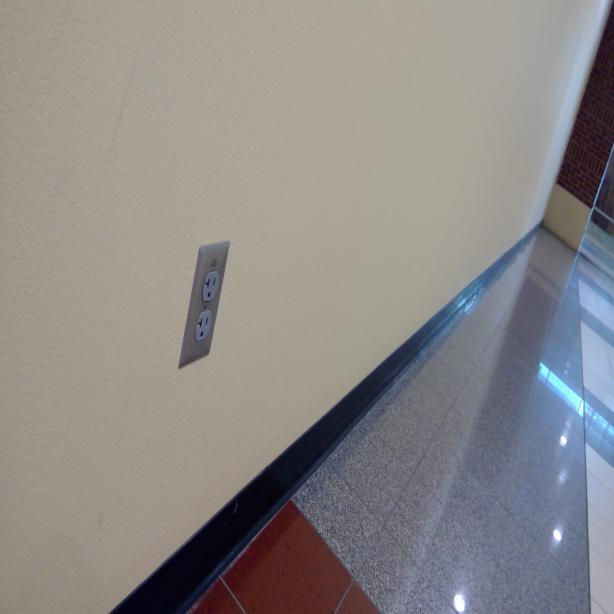typeb: (204, 272, 218, 303), (196, 313, 212, 340)
